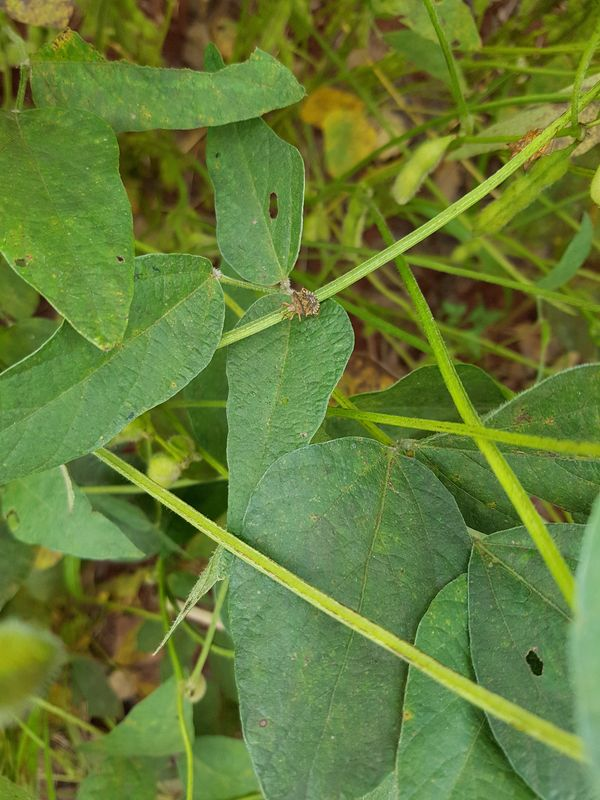Euschistus_heros_adulto: (499, 120, 562, 178)
Euschistus_heros_ninfa: (273, 280, 329, 330)
